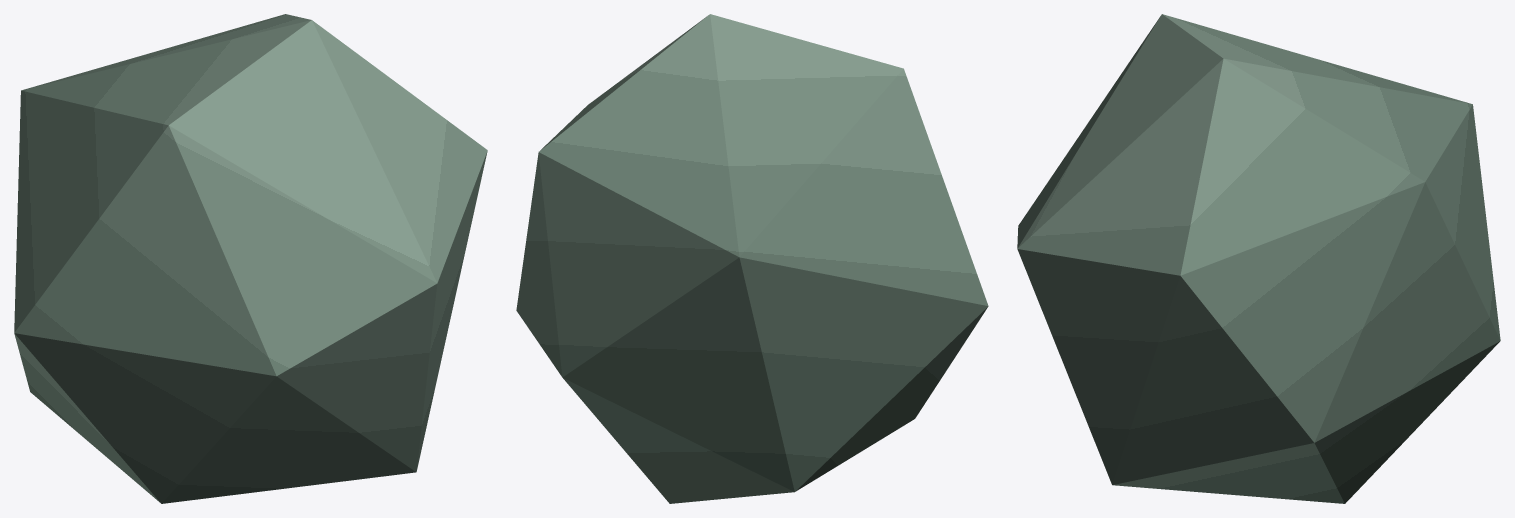
File: stone-low-poly.fbx
3 views of the same model, side by side, from view 1: azimuth 30°, elevation 25°; view 2: azimuth 150°, elevation 25°; view 3: azimuth 270°, elevation 25° (orthographic). The views are drawn at different scales.
Parts seen in each view (by area): view 1: Projectile.001; view 2: Projectile.001; view 3: Projectile.001.
Boxes of the visible parts, x1,y1,x2,y2 form: Projectile.001: (14, 14, 487, 503); Projectile.001: (516, 14, 988, 503); Projectile.001: (1017, 14, 1500, 503).
Size of the model in its own units: 40.3 by 39.8 by 38.34.
